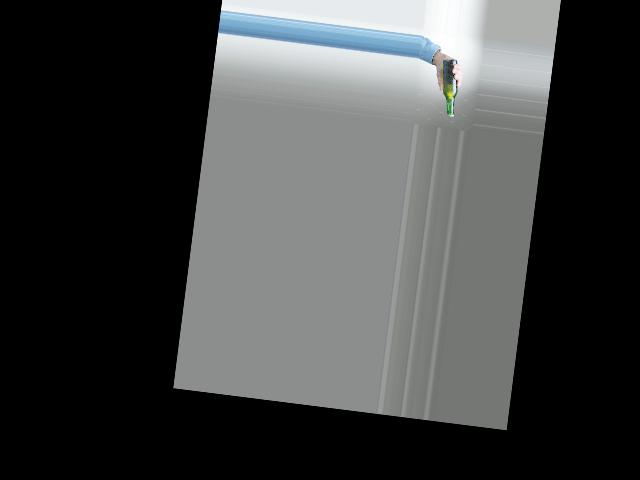beer: (435, 58, 461, 116)
